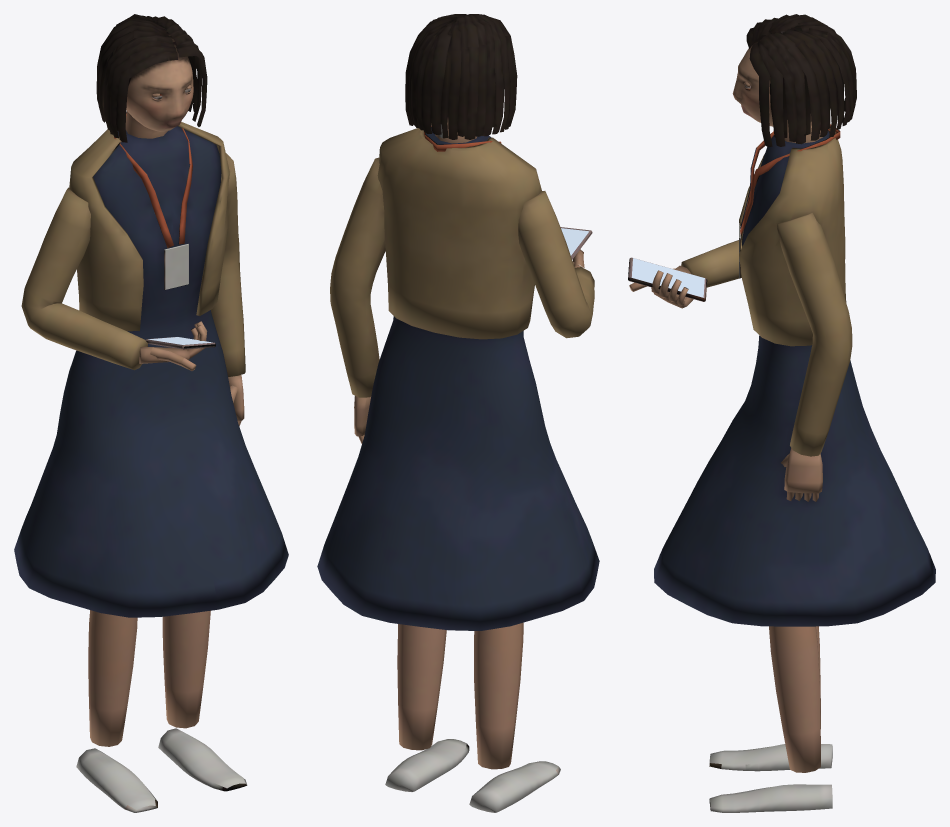
Rendered from mei_standing.glb.
3 views of the same model, side by side, from view 1: azimuth 30°, elevation 25°; view 2: azimuth 150°, elevation 25°; view 3: azimuth 270°, elevation 25° (orthographic). The views are drawn at different scales.
Visible parts, largest first — view 1: Mei, Head, LegR, LegL; view 2: Mei, Head, LegR, LegL; view 3: Mei, Head, LegL, LegR.
Boxes of the visible parts, bbox=[...] form: Mei: bbox=[14, 111, 288, 617]; Head: bbox=[96, 14, 207, 142]; LegR: bbox=[76, 610, 157, 812]; LegL: bbox=[158, 610, 247, 791]; Mei: bbox=[317, 123, 599, 630]; Head: bbox=[405, 14, 517, 139]; LegR: bbox=[469, 622, 560, 812]; LegL: bbox=[385, 624, 469, 791]; Mei: bbox=[628, 122, 935, 626]; Head: bbox=[732, 14, 856, 146]; LegL: bbox=[709, 626, 832, 812]; LegR: bbox=[709, 626, 832, 771].
Size of the model in its own units: 0.5283 by 1.59 by 0.5808.
Materials: 6 (5 with a texture image).
